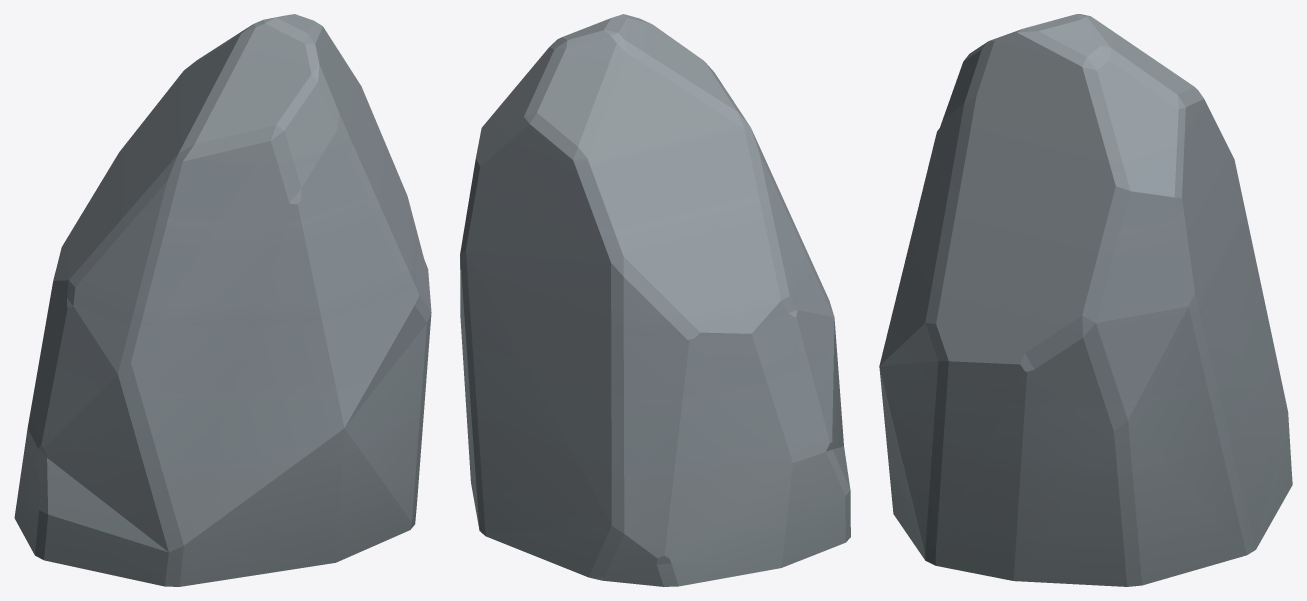
File: rock_tall.glb
3 views of the same model, side by side, from view 1: azimuth 30°, elevation 25°; view 2: azimuth 150°, elevation 25°; view 3: azimuth 270°, elevation 25° (orthographic). The views are drawn at different scales.
Visible parts, largest first — view 1: Rock_13_1_A; view 2: Rock_13_1_A; view 3: Rock_13_1_A.
Part boxes in pixels (bbox=[...]): Rock_13_1_A: bbox=[14, 14, 431, 586]; Rock_13_1_A: bbox=[460, 14, 850, 586]; Rock_13_1_A: bbox=[879, 14, 1292, 586].
Bounding box in the file's own units: 1.17 × 1.4 × 1.03.
1 material, 1 textured.
